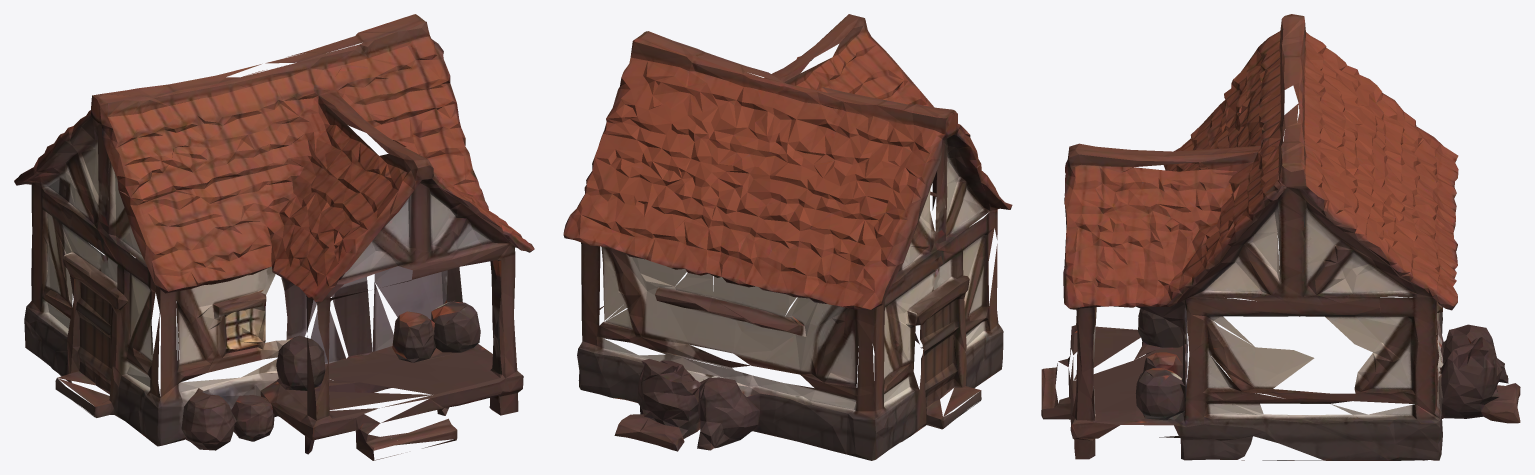
File: inn.glb
3 renders of one model, left to right at view 1: azimuth 30°, elevation 25°; view 2: azimuth 150°, elevation 25°; view 3: azimuth 270°, elevation 25°, orthographic. The views are drawn at different scales.
Parts seen in each view (by area): view 1: geometry_0; view 2: geometry_0; view 3: geometry_0.
Part boxes in pixels (left/top/right/bottom): geometry_0: left=14, top=14, right=534, bottom=460; geometry_0: left=563, top=14, right=1012, bottom=460; geometry_0: left=1041, top=14, right=1520, bottom=460.
Size of the model in its own units: 3.31 by 2.8 by 4.
1 material, 1 textured.
